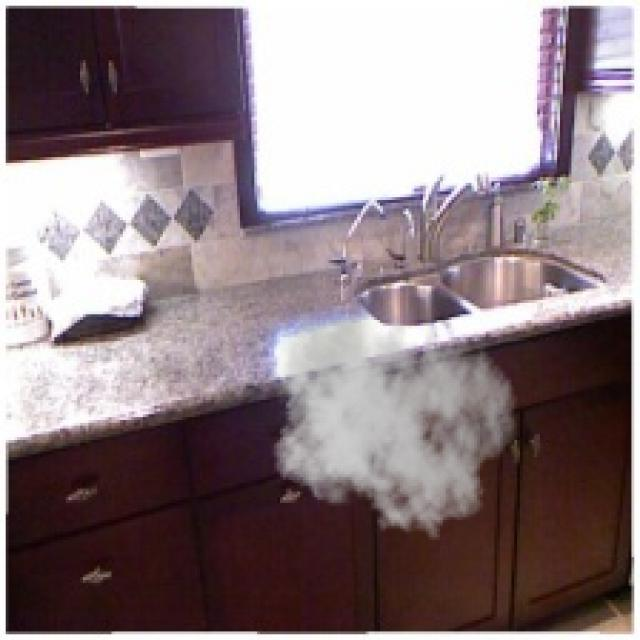smoke: (266, 300, 517, 540)
